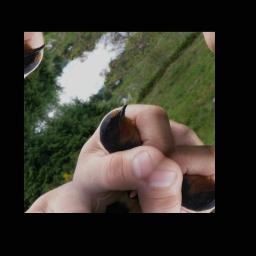Swallow: (86, 97, 160, 166)
